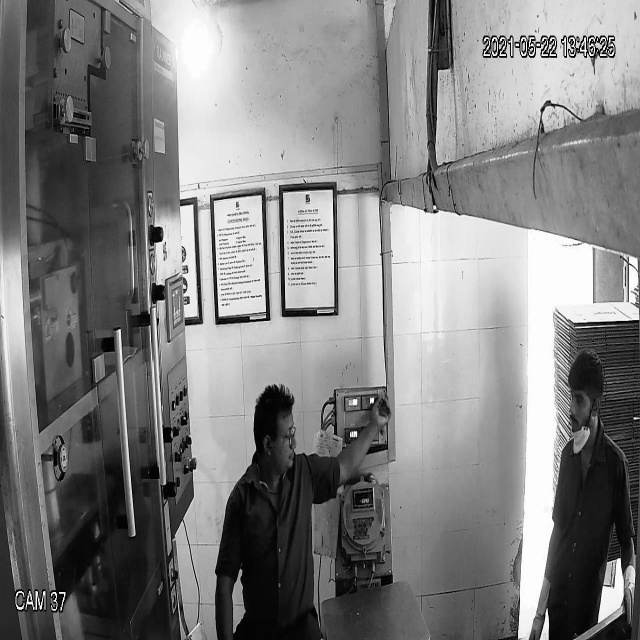Gafas: (254, 420, 301, 451)
Sin_gafas: (568, 387, 600, 415)
